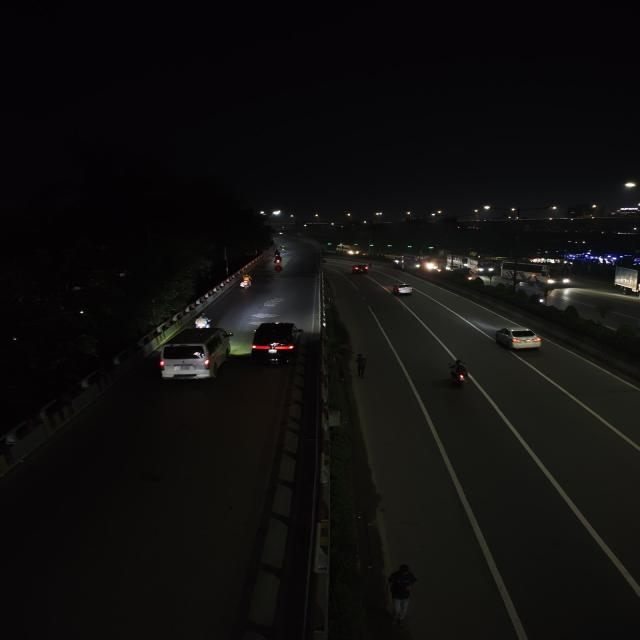bicycle: (350, 351, 372, 380)
bus: (500, 261, 573, 289), (453, 254, 497, 276), (406, 252, 438, 272)
car: (157, 326, 236, 386), (247, 319, 304, 367), (492, 324, 544, 354), (392, 281, 416, 297), (351, 263, 372, 275)
motorcycle: (444, 358, 473, 392), (236, 273, 256, 293), (192, 312, 214, 330), (272, 253, 284, 268), (275, 250, 284, 260)
pedestrian: (350, 350, 373, 380)
truck: (248, 319, 304, 367), (612, 263, 640, 298)
